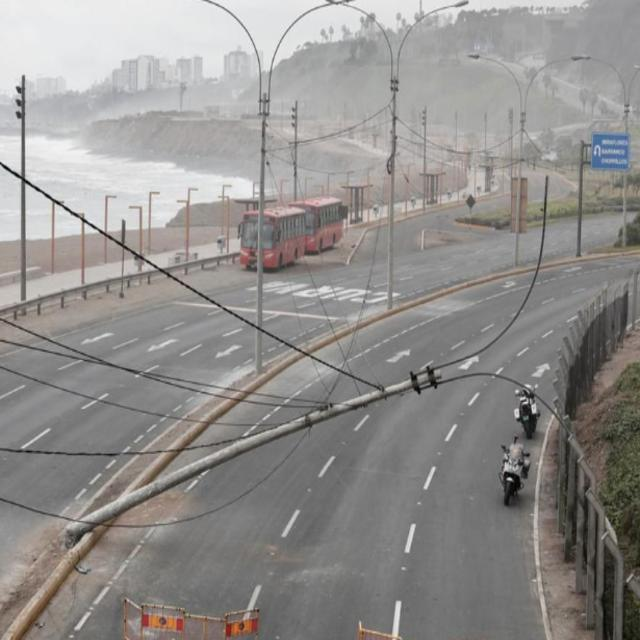Inclined Pole: (61, 331, 589, 535)
